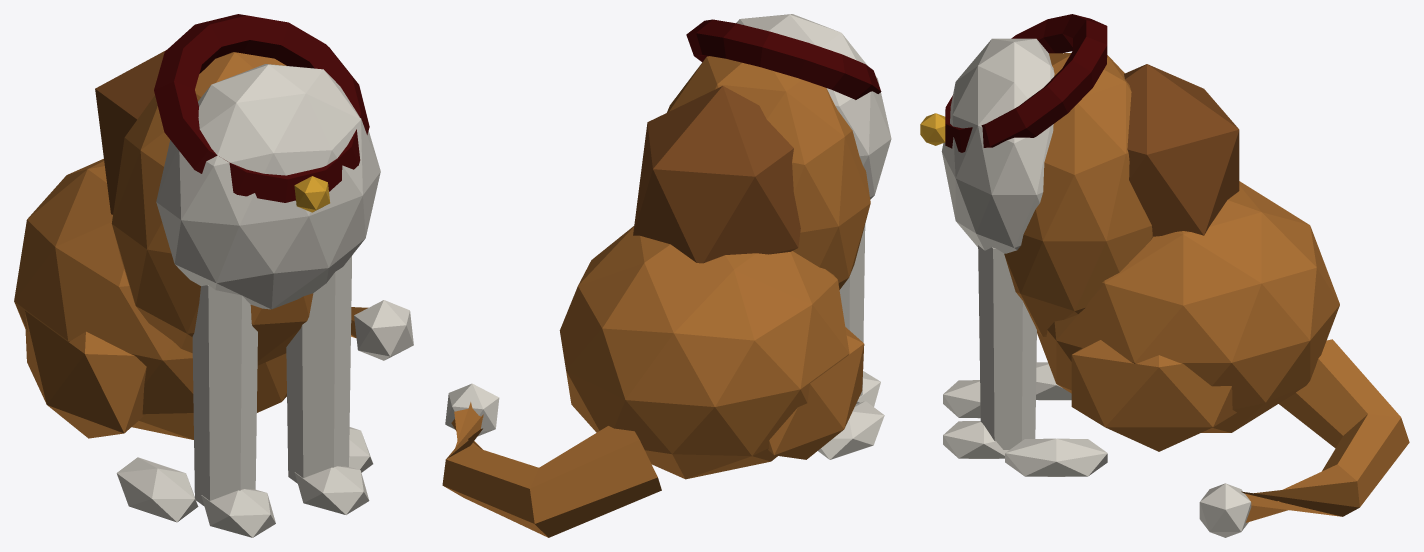
Rendered from Collie_Body.glb.
3 renders of one model, left to right at view 1: azimuth 30°, elevation 25°; view 2: azimuth 150°, elevation 25°; view 3: azimuth 270°, elevation 25°, orthographic. The views are drawn at different scales.
Parts seen in each view (by area): view 1: Collie_Body; view 2: Collie_Body; view 3: Collie_Body.
Boxes of the visible parts, bbox=[...] form: Collie_Body: bbox=[14, 14, 413, 537]; Collie_Body: bbox=[442, 14, 891, 537]; Collie_Body: bbox=[920, 14, 1409, 537].
Size of the model in its own units: 0.6863 by 0.7512 by 0.8106.
